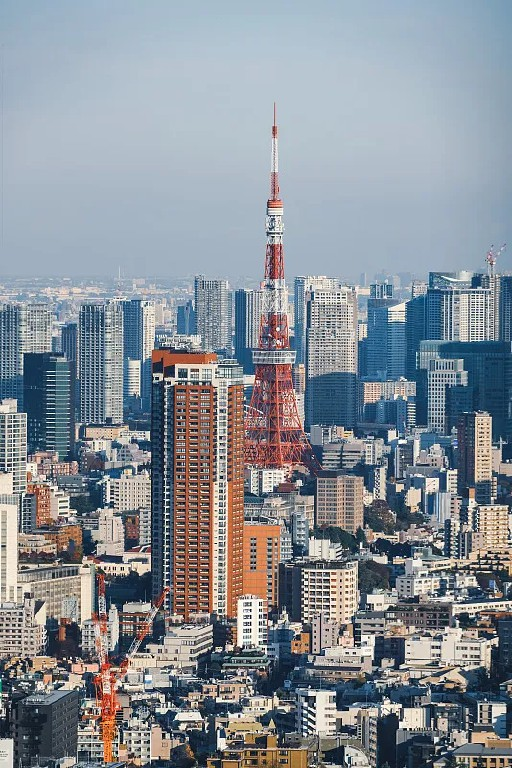Tokyo: (240, 103, 319, 469)
